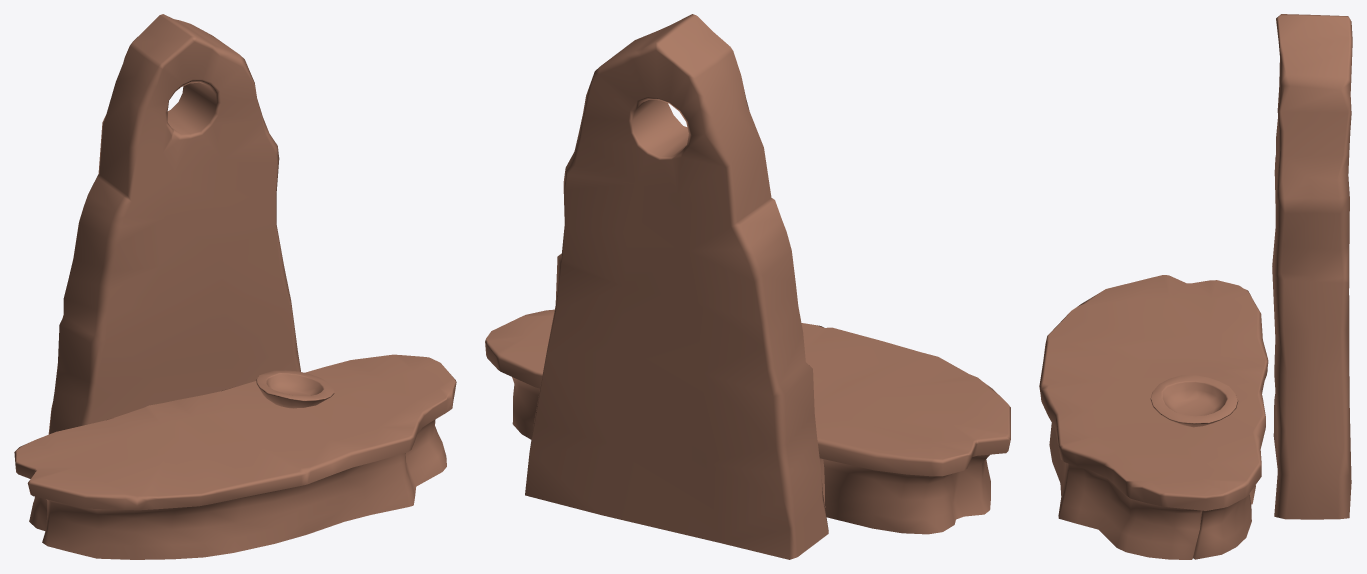
3 views of the same model, side by side, from view 1: azimuth 30°, elevation 25°; view 2: azimuth 150°, elevation 25°; view 3: azimuth 270°, elevation 25° (orthographic). The views are drawn at different scales.
Parts seen in each view (by area): view 1: SM_Leather_01_LOD0; view 2: SM_Leather_01_LOD0; view 3: SM_Leather_01_LOD0.
Part boxes in pixels (bbox=[...]): SM_Leather_01_LOD0: bbox=[14, 14, 456, 559]; SM_Leather_01_LOD0: bbox=[485, 14, 1010, 559]; SM_Leather_01_LOD0: bbox=[1039, 14, 1352, 559].
Bounding box in the file's own units: 4.82 × 4.49 × 2.87.
